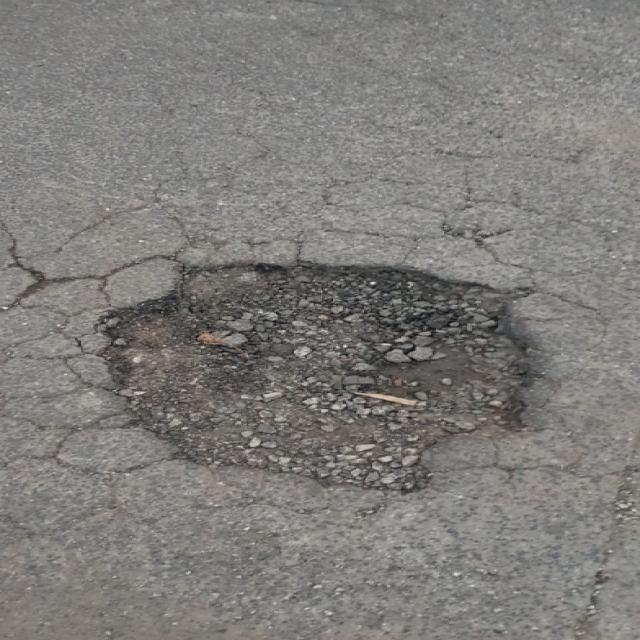pothole: (80, 256, 552, 496)
